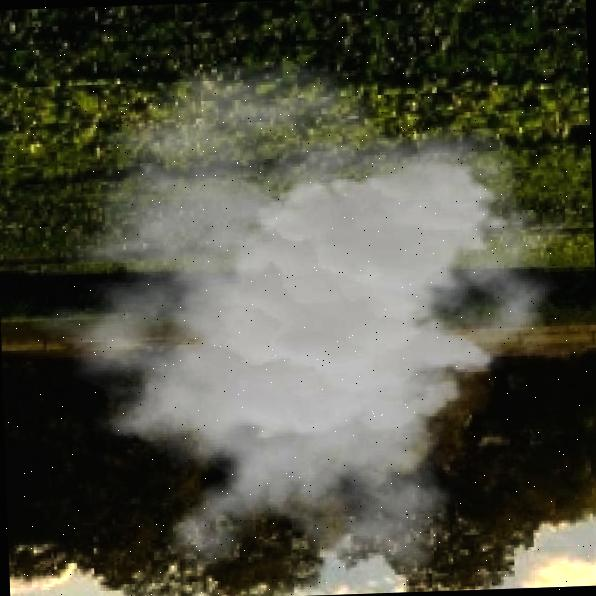smoke: (0, 49, 584, 596)
